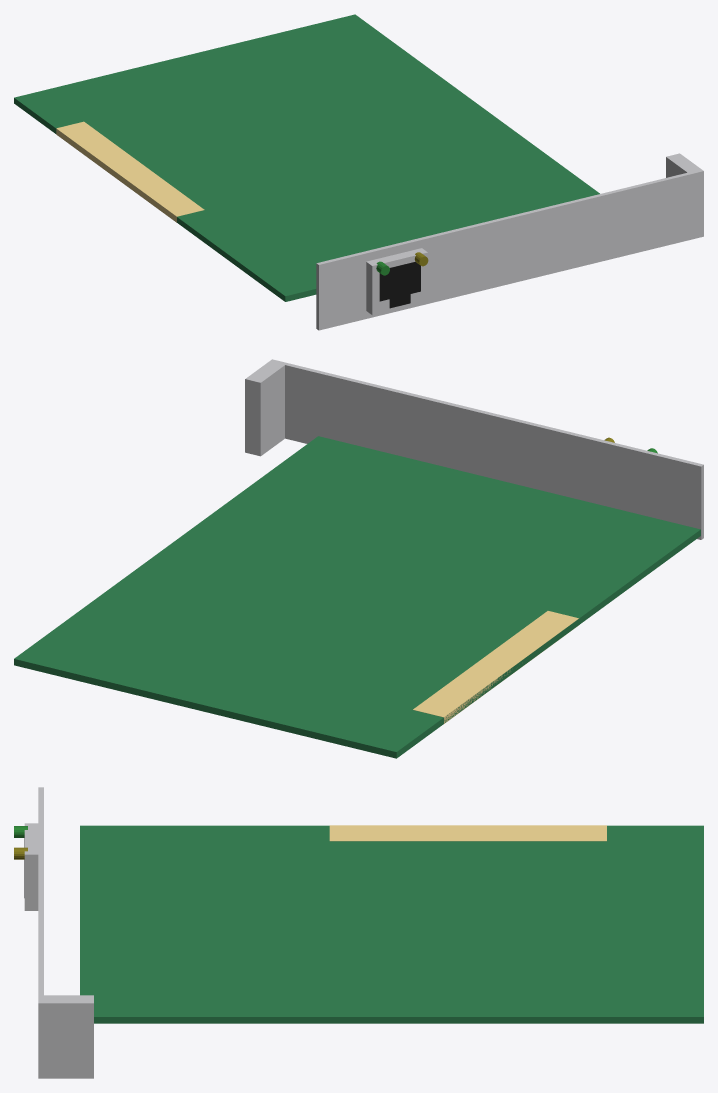
File: card_e1000.glb
3 renders of one model, top to bottom at view 1: azimuth 30°, elevation 25°; view 2: azimuth 150°, elevation 25°; view 3: azimuth 270°, elevation 25°, orthographic. The views are drawn at different scales.
Visible parts, largest first — view 1: card_e1000_body; view 2: card_e1000_body; view 3: card_e1000_body.
Part boxes in pixels (bbox=[...]): card_e1000_body: bbox=[14, 14, 703, 330]; card_e1000_body: bbox=[14, 359, 703, 758]; card_e1000_body: bbox=[24, 787, 703, 1078].
Bounding box in the file's own units: 0.115 × 0.0228 × 0.1493.
